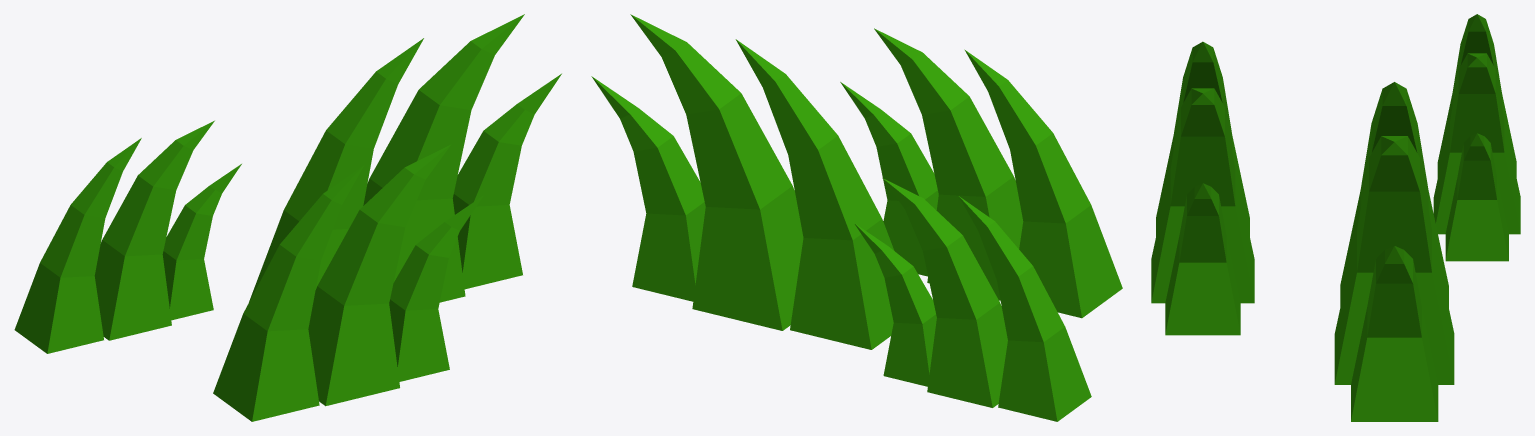
File: Grass.glb
3 views of the same model, side by side, from view 1: azimuth 30°, elevation 25°; view 2: azimuth 150°, elevation 25°; view 3: azimuth 270°, elevation 25° (orthographic). The views are drawn at different scales.
Parts seen in each view (by area): view 1: Plane; view 2: Plane; view 3: Plane.
Boxes of the visible parts, x1,y1,x2,y2 form: Plane: (14,14,561,421); Plane: (591,14,1122,421); Plane: (1151,14,1520,421).
Bounding box in the file's own units: 0.8515 × 0.4021 × 0.4563.
1 material, 1 textured.
